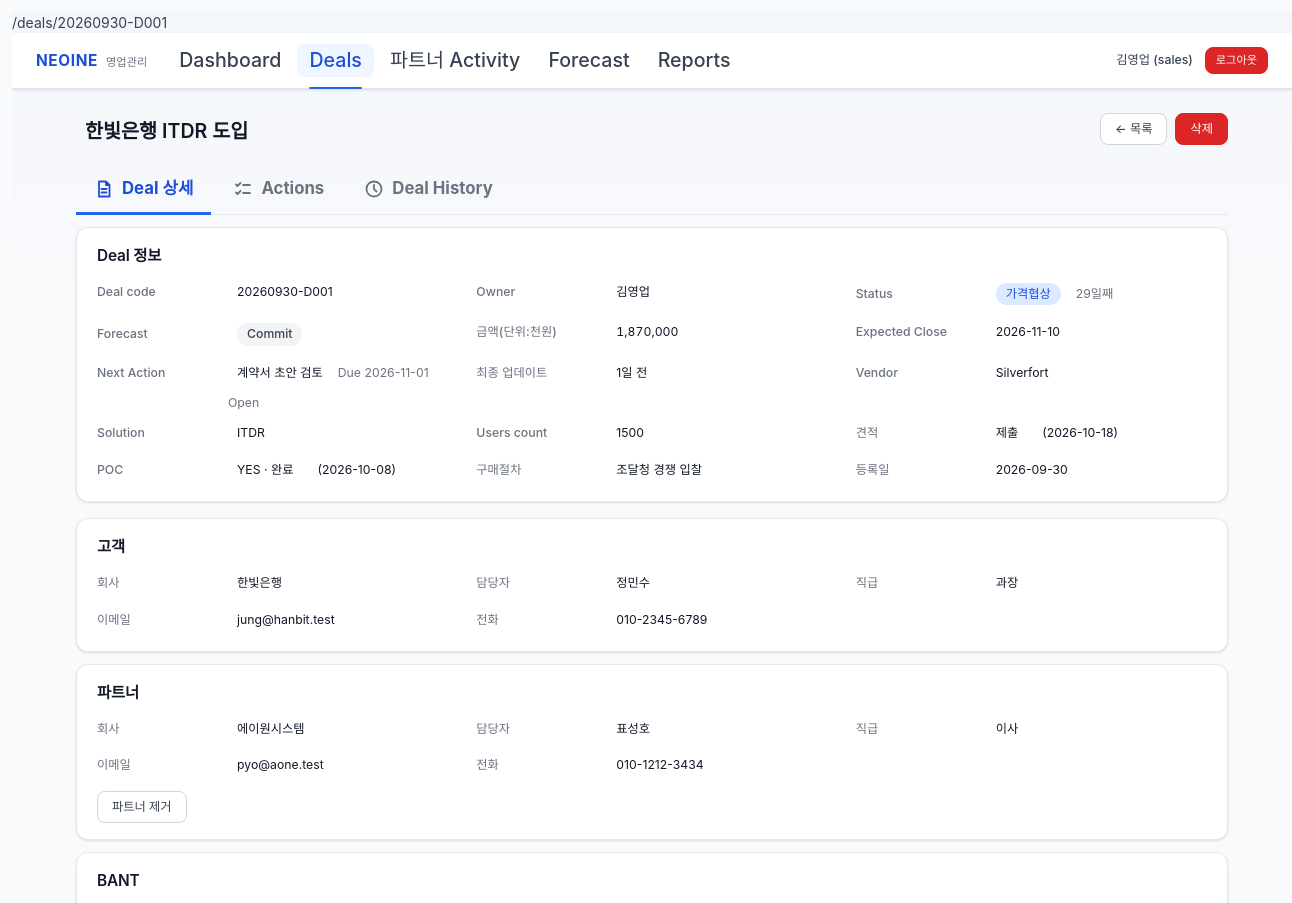
값 클릭 → 입력기 (Enter 저장 / Esc 취소 / 키보드) › discards the typed value with Escape and shows the original value (no buttons)
Check: the heading "한빛은행 ITDR 도입" is shown, box [76,113,257,150]
Click the button with aria-label "구매절차 수정": [659, 470] box [607,455,711,485]
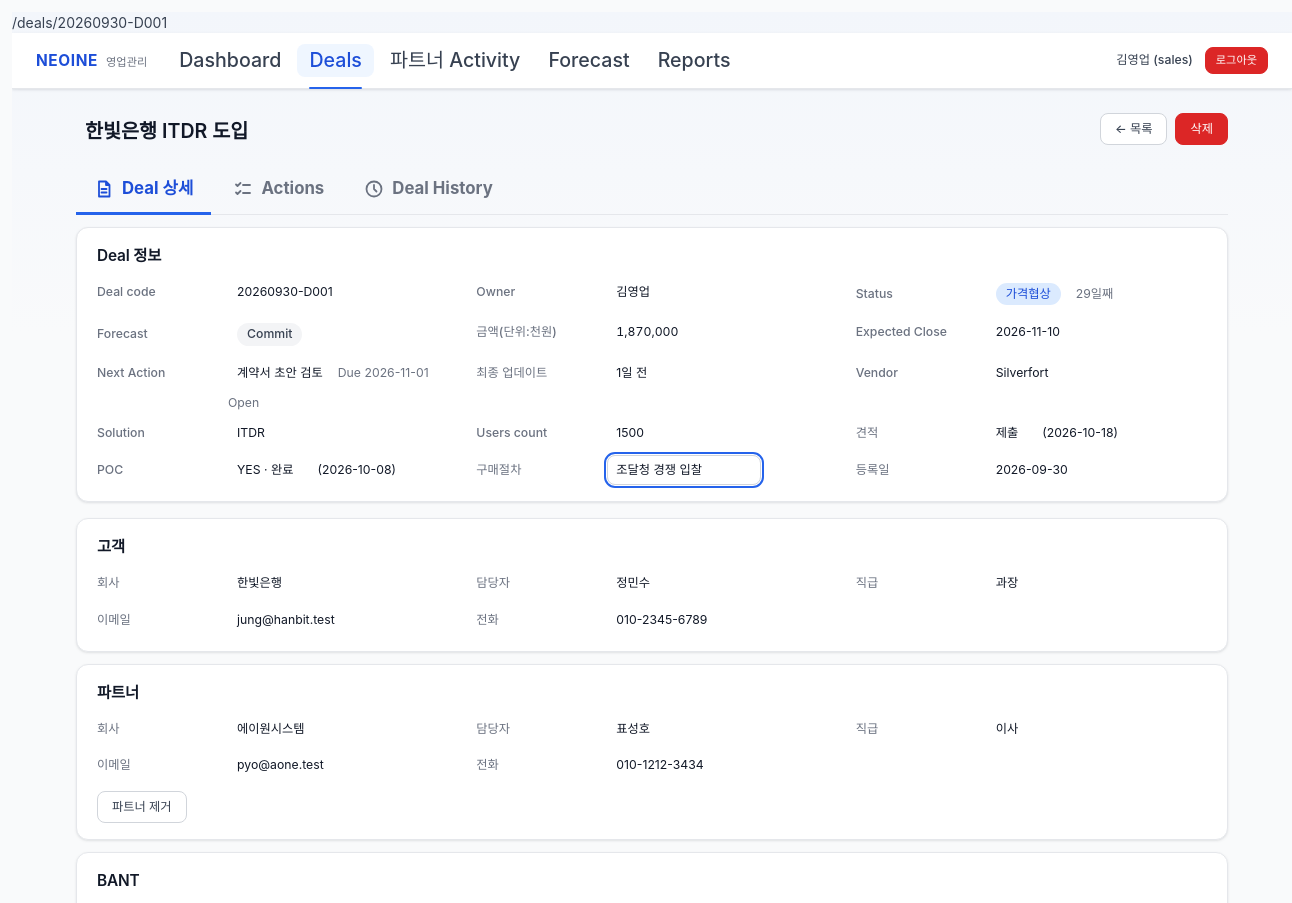
In the field named "구매절차": [684, 470] box [607,455,761,485], type "추가"
Then press Escape
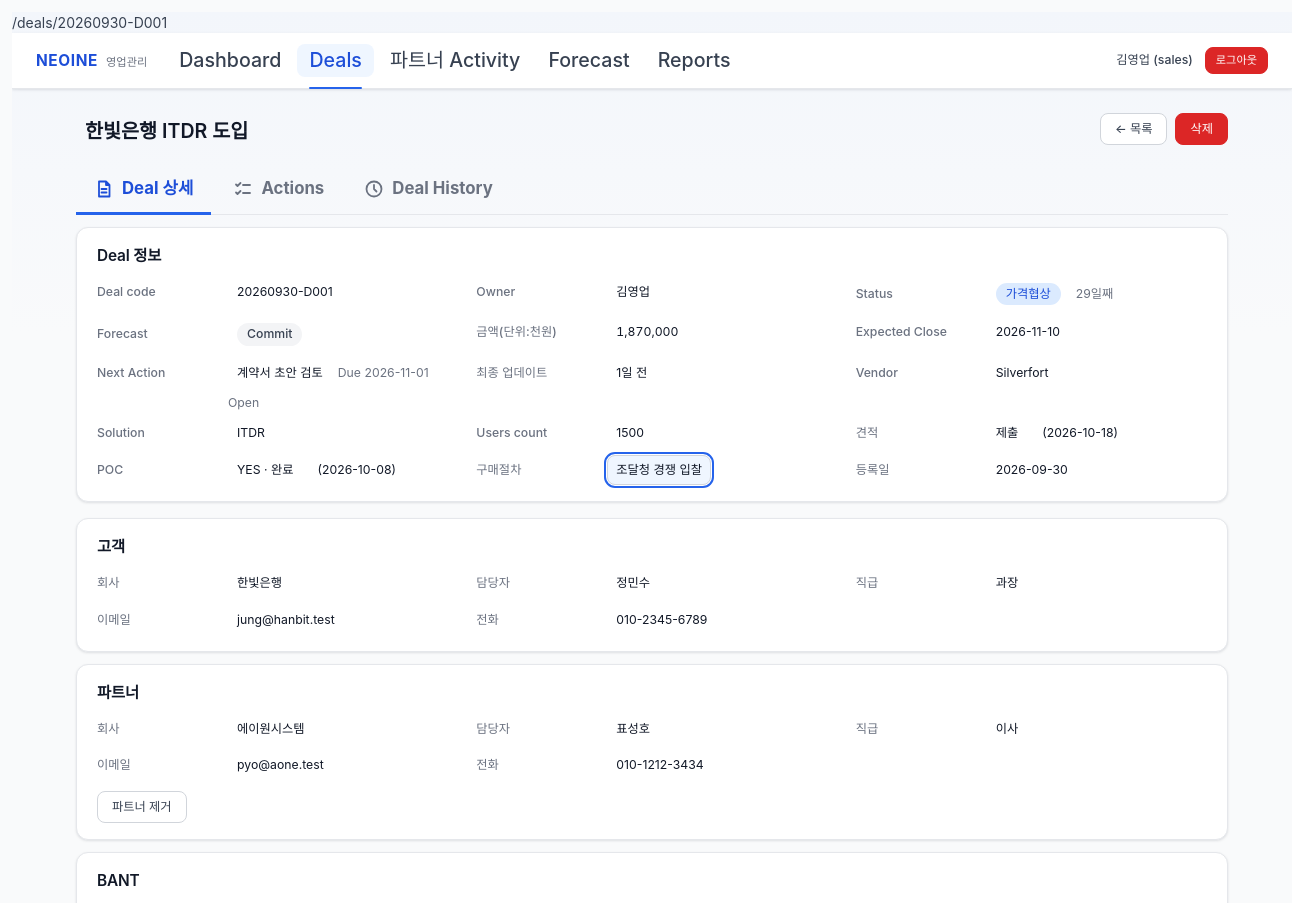
Check: the button with aria-label "구매절차 수정" reads "조달청 경쟁 입찰", box [607,455,711,485]
